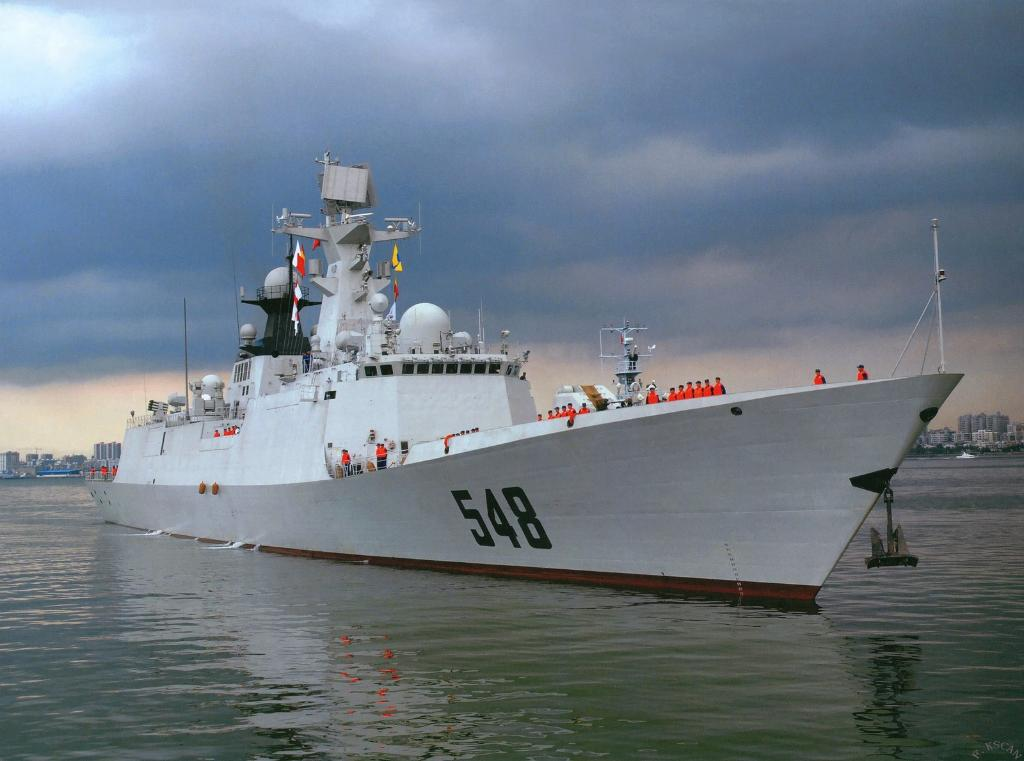Warship: (90, 148, 970, 610)
